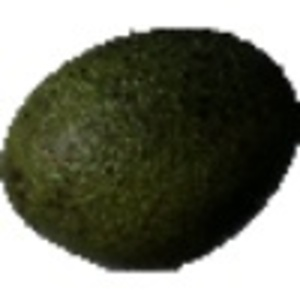abacate: (3, 24, 295, 268)
